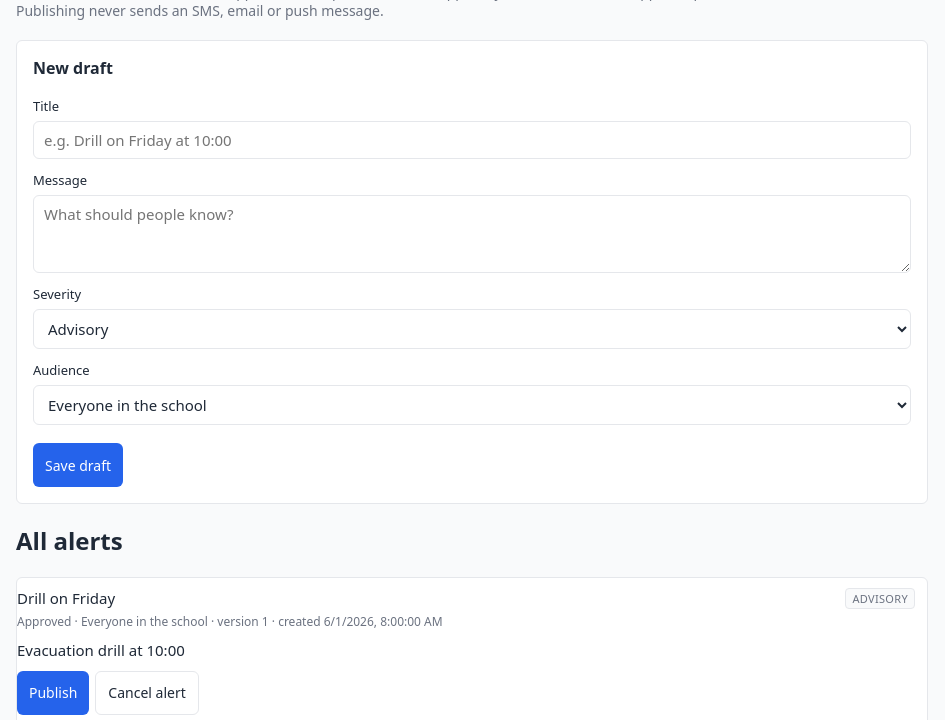
Test: AdminAlerts › publishes an approved alert and says nothing was sent
The width and height of the screenshot is (945, 720).
(page scrolled)
Expected: the text "Drill on Friday" is shown, [17,588,115,608]
Click the button "Publish".
click(53, 693)  # box [17,671,89,715]
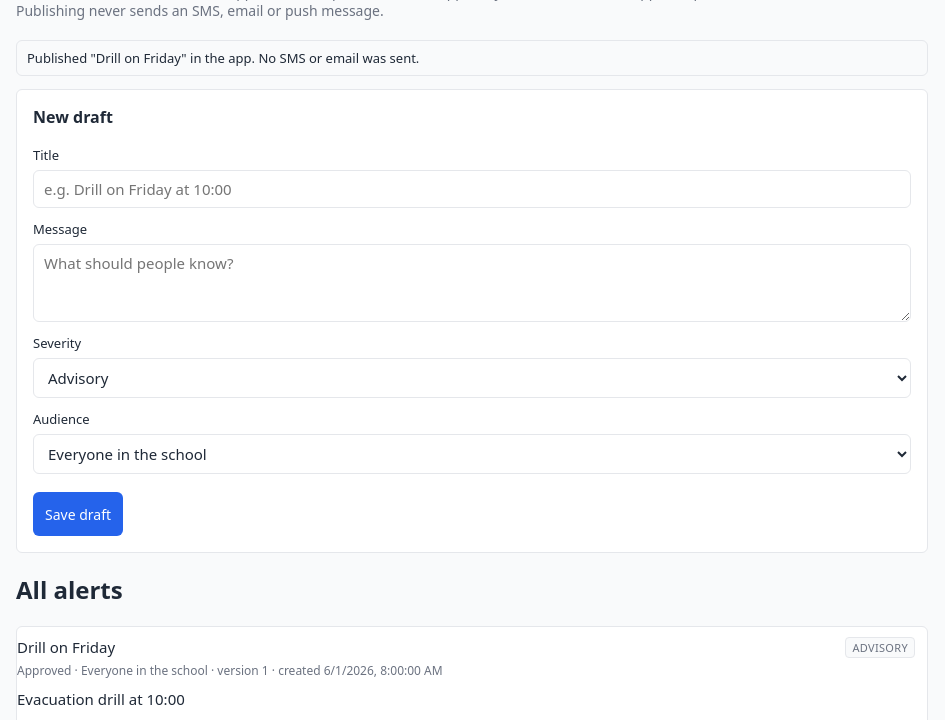
Expected: the message shows "No SMS or email was sent", [27,49,419,67]
